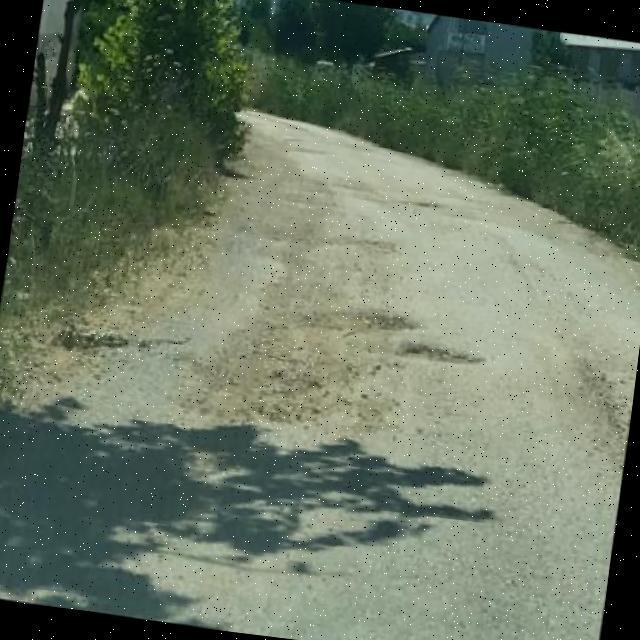Pothole: (200, 235, 482, 433)
